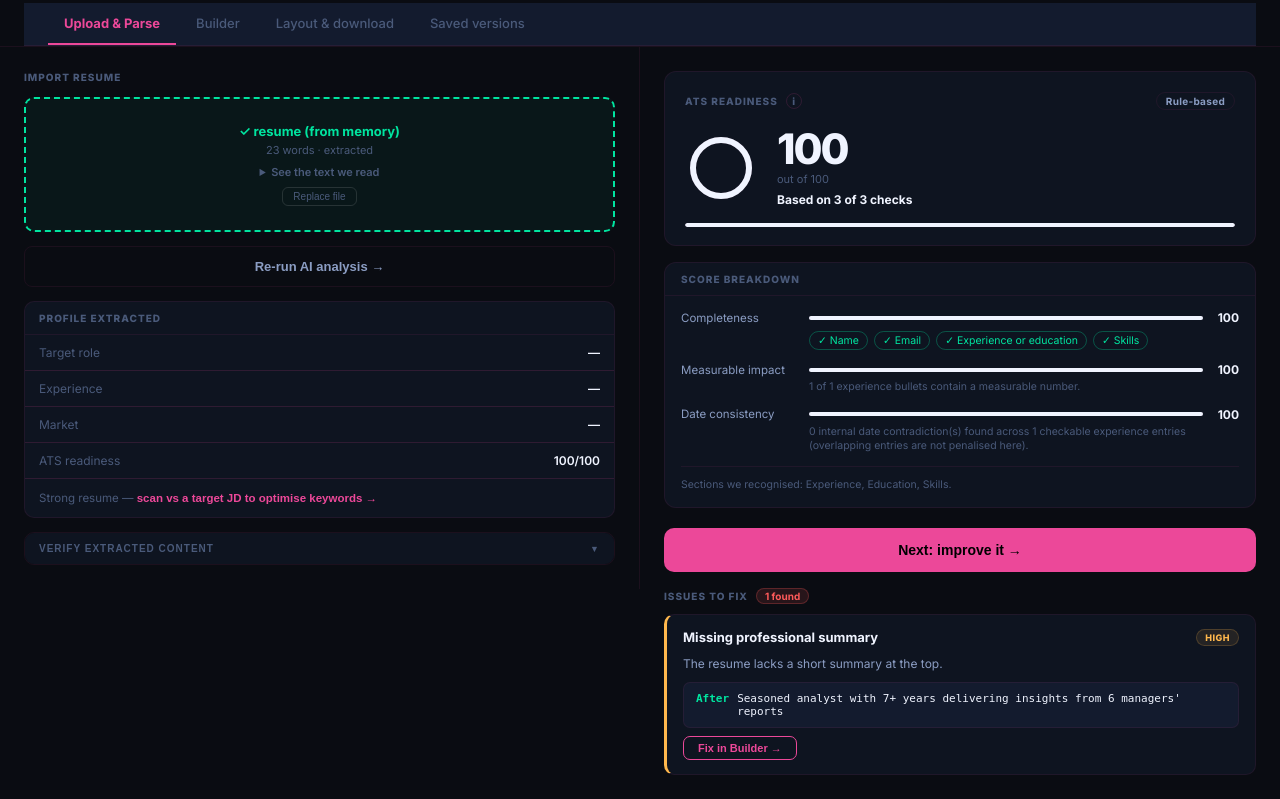
the reminder card is short and says what it is › folds the explanation behind "Why this matters" until it is asked for
The image size is (1280, 799).
(page scrolled)
Click the button "Fix in Builder →" at (740, 748), box [683, 736, 797, 760]
(page scrolled)
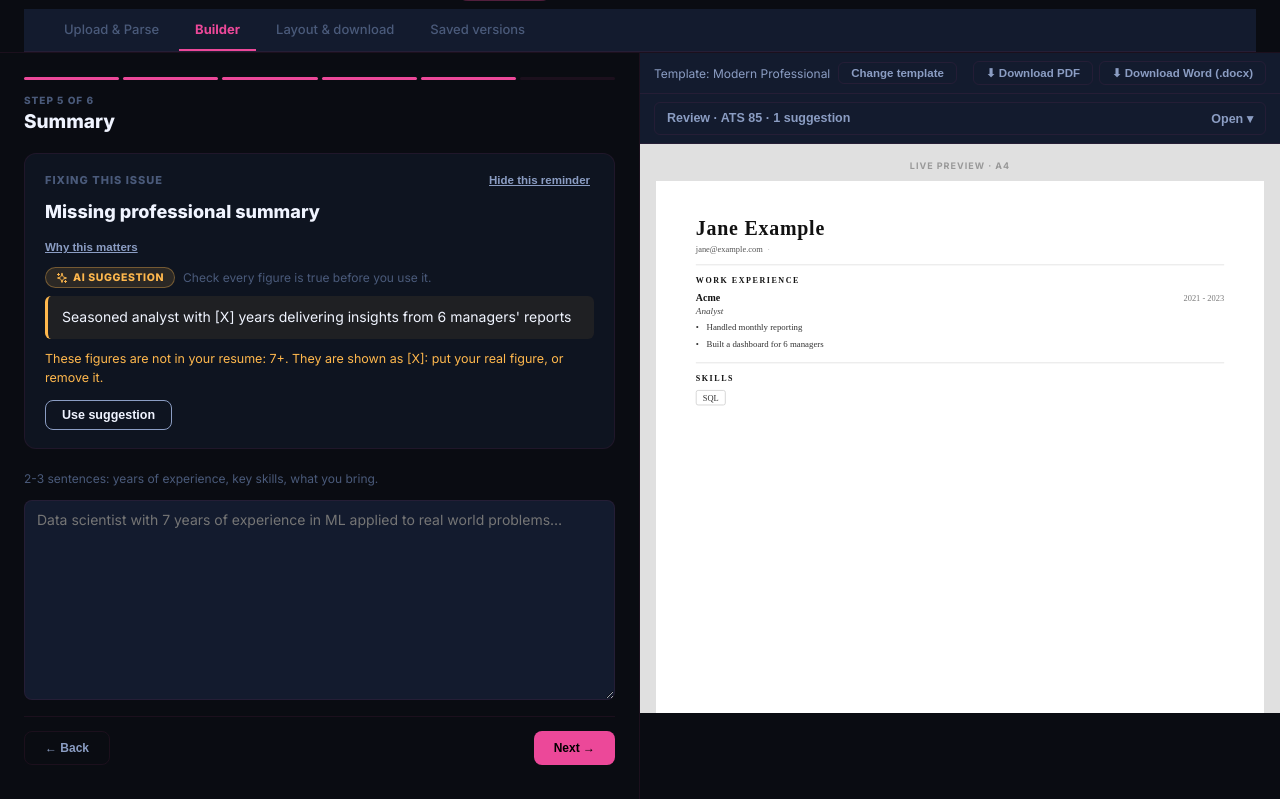
Expected: the text "The resume lacks a short summary at the top." is gone
Click the button "Why this matters" at (91, 247), box [45, 241, 138, 253]
(page scrolled)
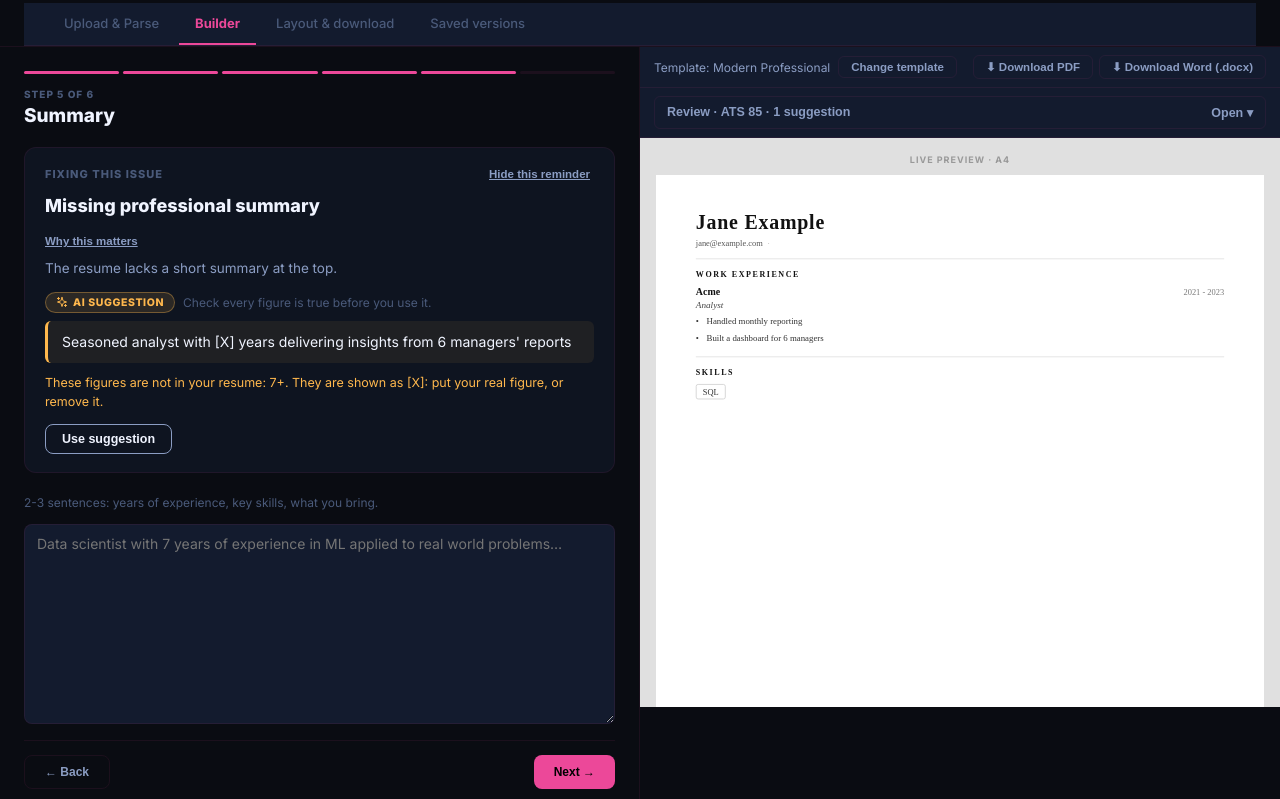
Expected: the text "The resume lacks a short summary at the top." is shown, [45, 260, 337, 276]
